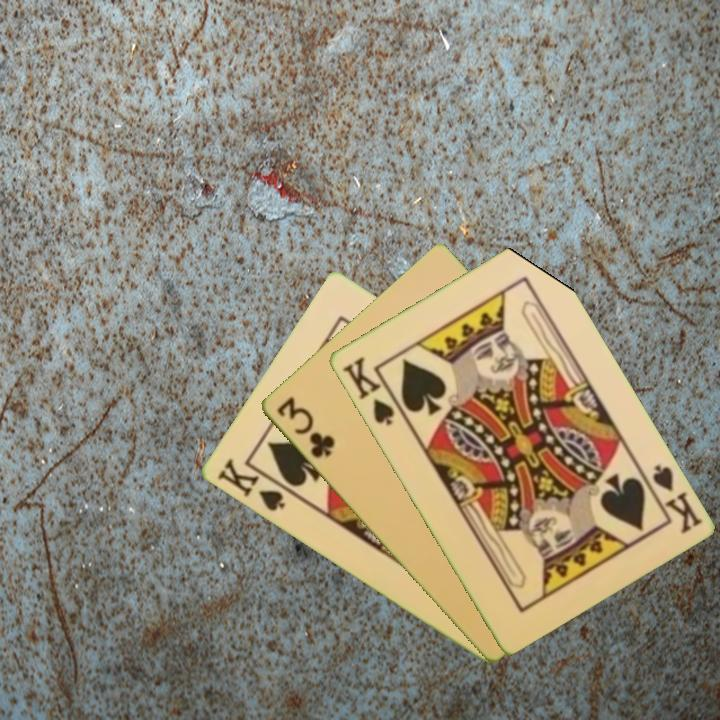3c: (272, 393, 338, 462)
Ks: (637, 460, 705, 537), (213, 455, 295, 515), (338, 353, 397, 429)
